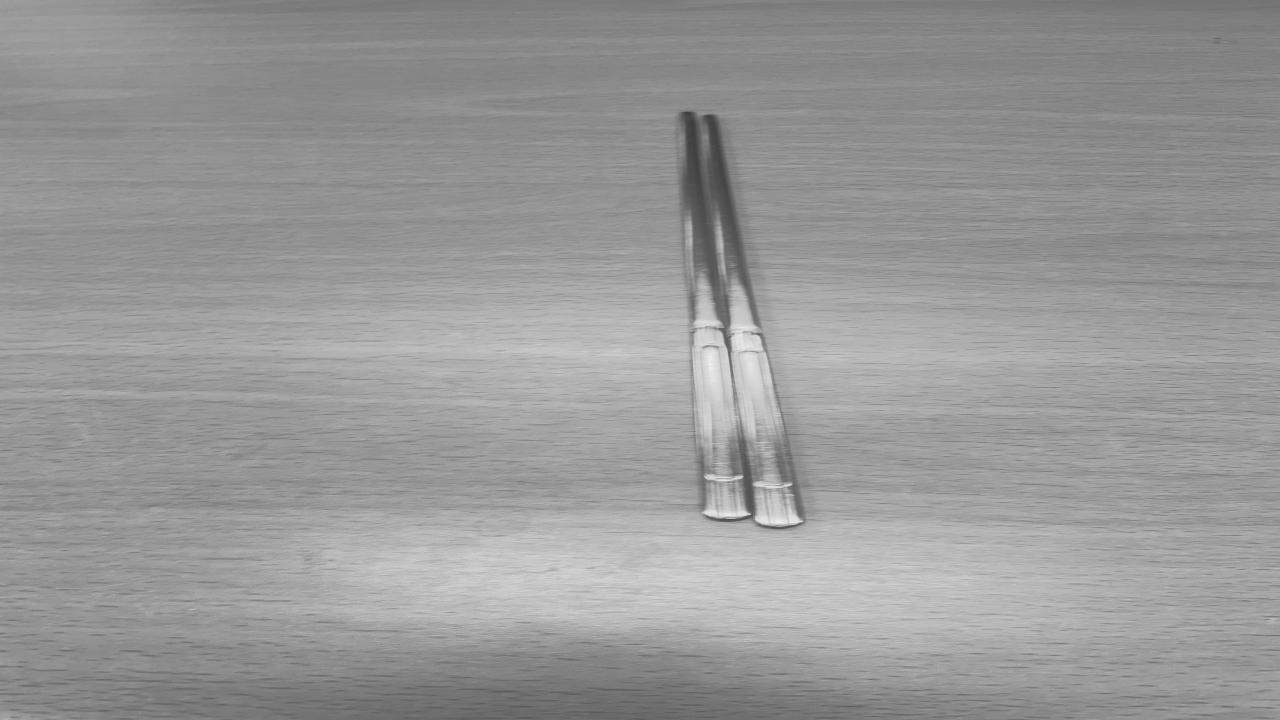chopstick: (675, 112, 798, 526)
